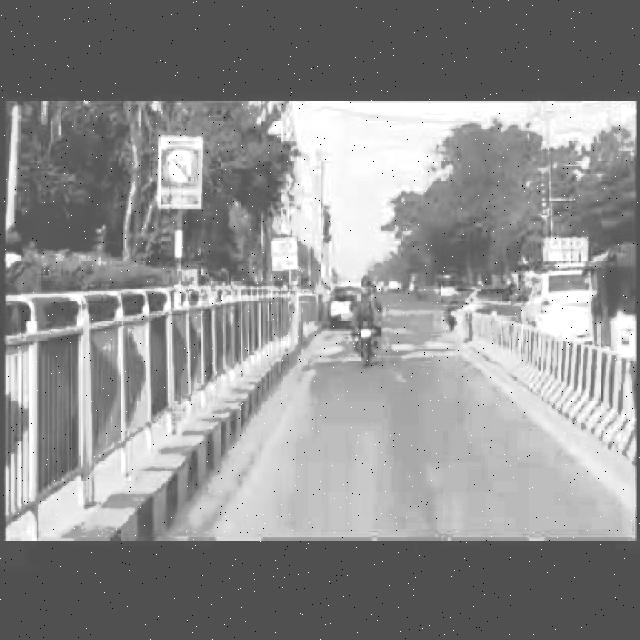Car: (514, 266, 594, 344)
